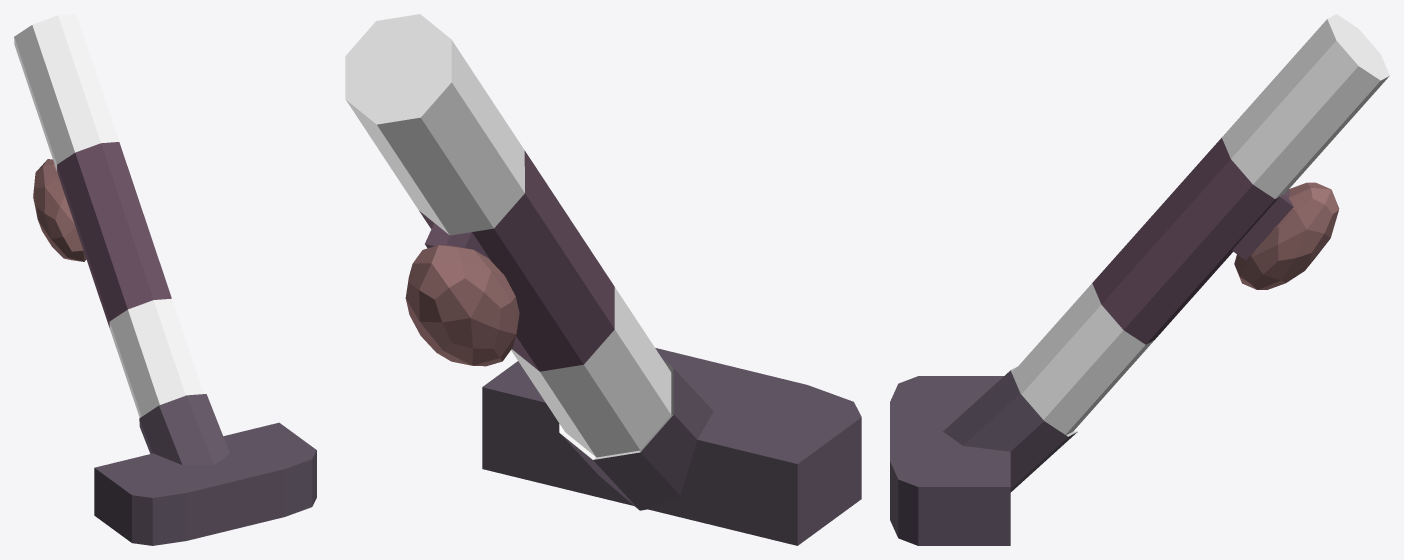
File: süpürge.fbx
3 views of the same model, side by side, from view 1: azimuth 30°, elevation 25°; view 2: azimuth 150°, elevation 25°; view 3: azimuth 270°, elevation 25° (orthographic). The views are drawn at different scales.
Visible parts, largest first — view 1: Cube; view 2: Cube; view 3: Cube.
Boxes of the visible parts, x1=… form: Cube: x1=14, y1=14, x2=316, y2=545; Cube: x1=345, y1=14, x2=861, y2=545; Cube: x1=890, y1=14, x2=1389, y2=545.
Bounding box in the file's own units: 592 × 1180 × 1128.
Materials: 1 (1 with a texture image).
